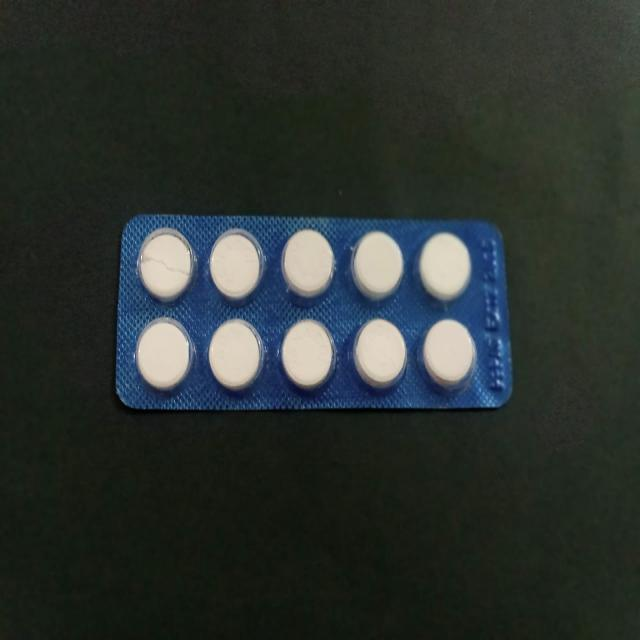defect: (136, 227, 198, 305)
